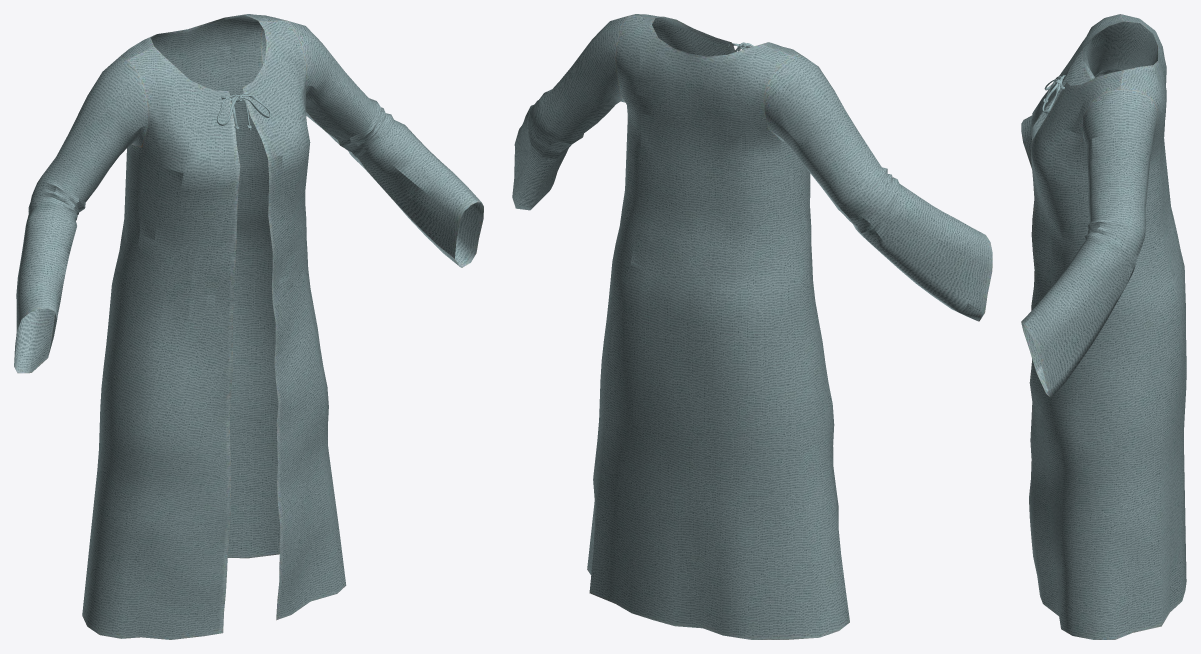
The model's file is mindfront-cardigan-long-open-front.glb.
3 renders of one model, left to right at view 1: azimuth 30°, elevation 25°; view 2: azimuth 150°, elevation 25°; view 3: azimuth 270°, elevation 25°, orthographic. The views are drawn at different scales.
Parts seen in each view (by area): view 1: cardigan long open front; view 2: cardigan long open front; view 3: cardigan long open front.
Boxes of the visible parts, left/top/right/bottom form: cardigan long open front: left=14, top=14, right=483, bottom=639; cardigan long open front: left=512, top=14, right=992, bottom=639; cardigan long open front: left=1021, top=14, right=1186, bottom=639.
Size of the model in its own units: 92.61 by 107 by 29.67.
1 material, 1 textured.
